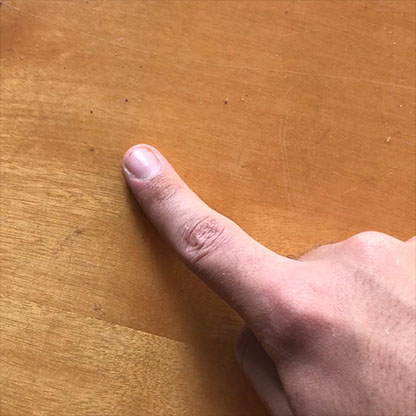fingertip: (114, 136, 179, 199)
